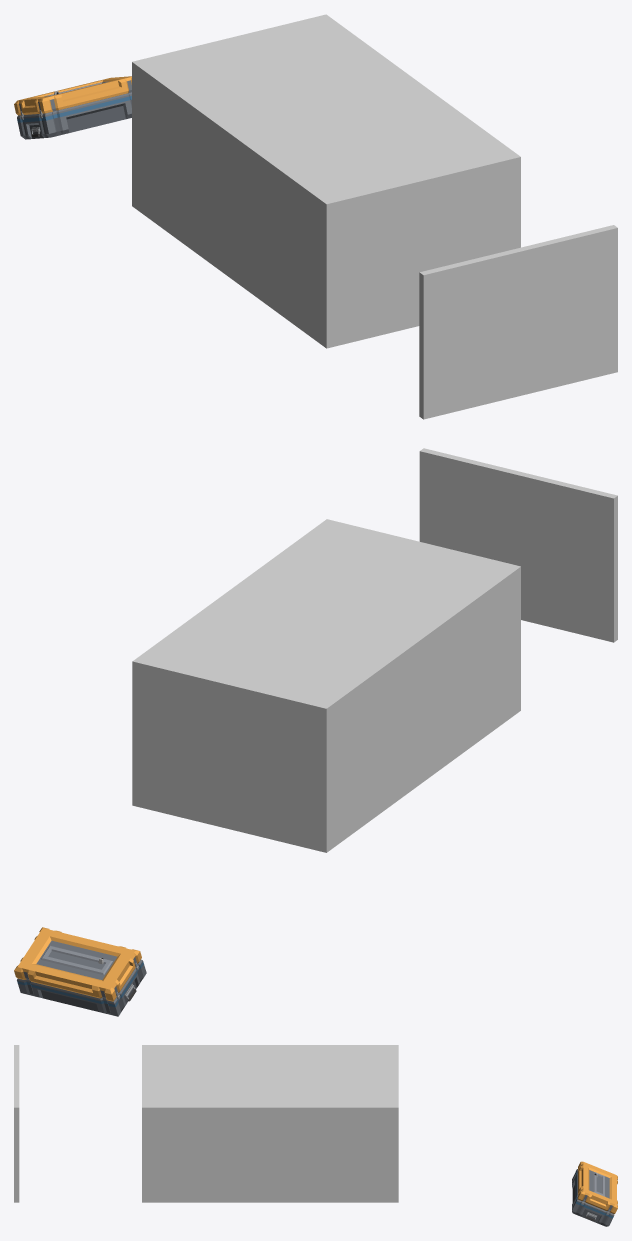
File: droids-mini-game.glb
The picture shows the model from 3 angles, top to bottom: view 1: azimuth 30°, elevation 25°; view 2: azimuth 150°, elevation 25°; view 3: azimuth 270°, elevation 25°; orthographic projection. The views are drawn at different scales.
Parts seen in each view (by area): view 1: droid_attack_zone, droid_spawn_zone, crate_base, crate_lid; view 2: droid_attack_zone, droid_spawn_zone, crate_lid, crate_base; view 3: droid_attack_zone, crate_lid, droid_spawn_zone, crate_base.
Boxes of the visible parts, x1,y1,x2,y2 form: droid_attack_zone: [132, 14, 520, 348]; droid_spawn_zone: [419, 225, 617, 419]; crate_base: [17, 92, 131, 139]; crate_lid: [14, 76, 131, 115]; droid_attack_zone: [132, 519, 520, 852]; droid_spawn_zone: [419, 448, 617, 642]; crate_lid: [14, 927, 141, 1001]; crate_base: [17, 959, 146, 1016]; droid_attack_zone: [142, 1045, 398, 1202]; crate_lid: [578, 1161, 617, 1213]; droid_spawn_zone: [14, 1045, 19, 1202]; crate_base: [572, 1169, 614, 1226].
Size of the model in its own units: 2.43 by 2.46 by 9.94.
Materials: 3 (3 with a texture image).
